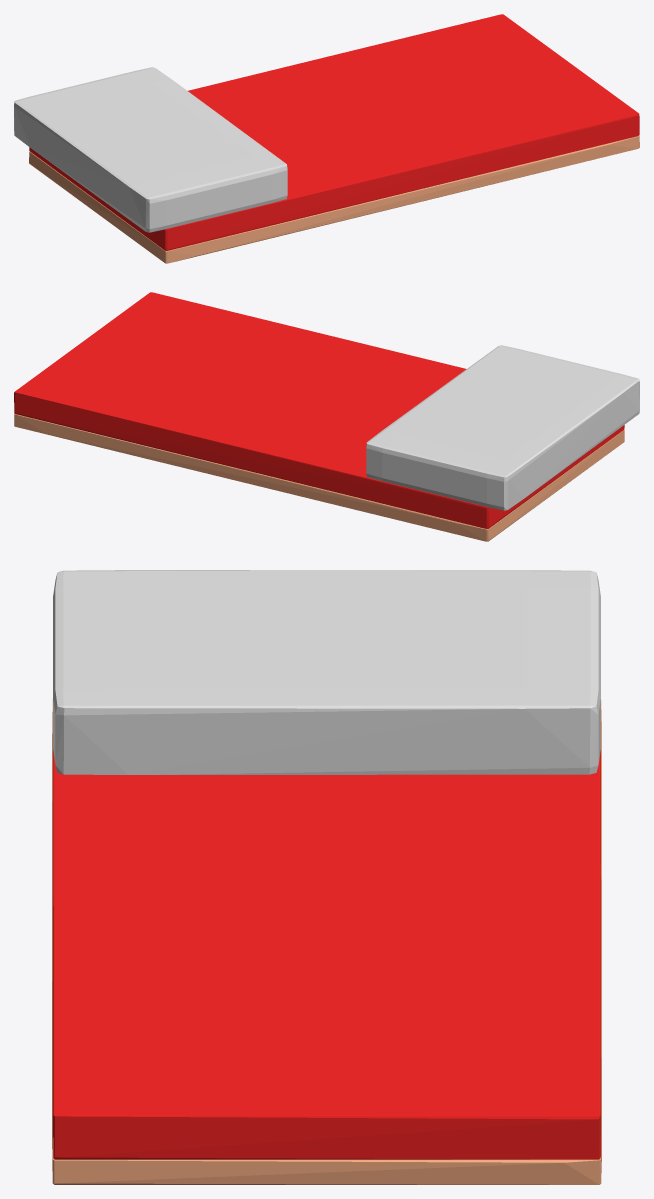
File: bed.fbx
3 views of the same model, one above another, from view 1: azimuth 30°, elevation 25°; view 2: azimuth 150°, elevation 25°; view 3: azimuth 270°, elevation 25° (orthographic). The views are drawn at different scales.
Parts seen in each view (by area): view 1: Cube; view 2: Cube; view 3: Cube.
Boxes of the visible parts, x1,y1,x2,y2 form: Cube: [14, 14, 639, 263]; Cube: [14, 292, 639, 541]; Cube: [52, 570, 601, 1184].
Size of the model in its own units: 414 by 54.85 by 200.
